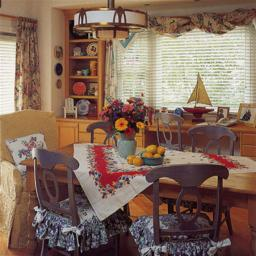Ventana: (119, 29, 250, 108)
